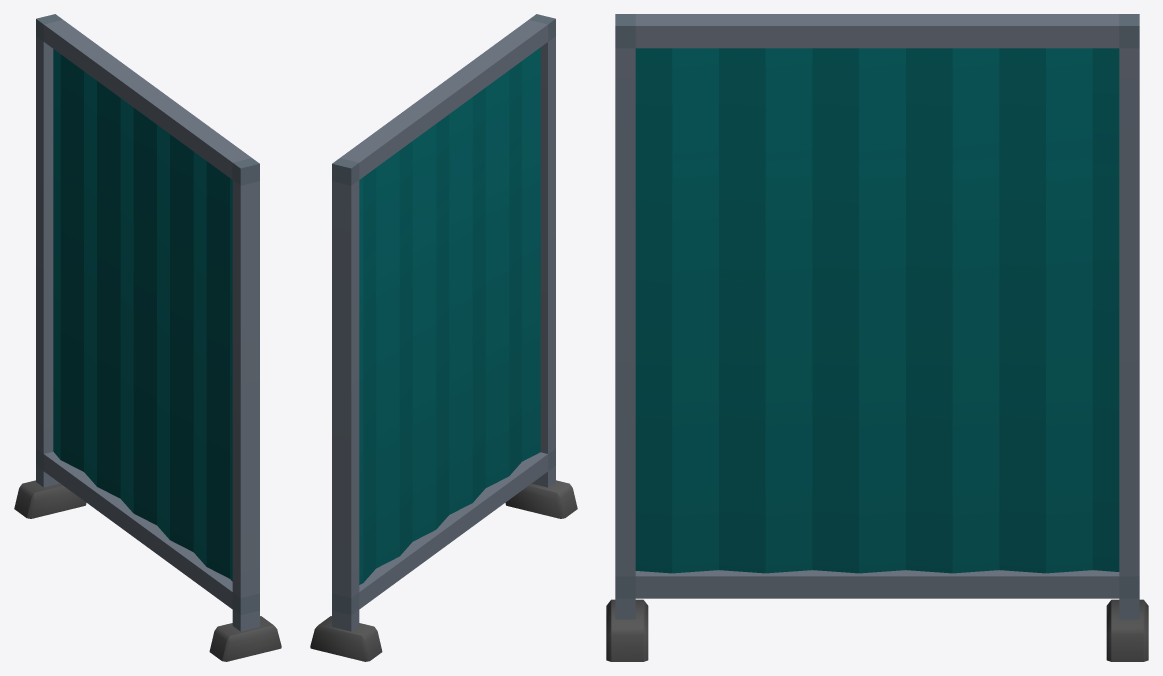
The model's file is Barier_2_5.glb.
3 renders of one model, left to right at view 1: azimuth 30°, elevation 25°; view 2: azimuth 150°, elevation 25°; view 3: azimuth 270°, elevation 25°, orthographic. The views are drawn at different scales.
Parts seen in each view (by area): view 1: Barier_2_5; view 2: Barier_2_5; view 3: Barier_2_5.
Boxes of the visible parts, box(x1,y1,x2,y2) form: Barier_2_5: box(14, 14, 281, 661); Barier_2_5: box(310, 14, 577, 661); Barier_2_5: box(606, 14, 1148, 661).
Size of the model in its own units: 0.3435 by 2.68 by 2.11.
2 materials, 2 textured.
